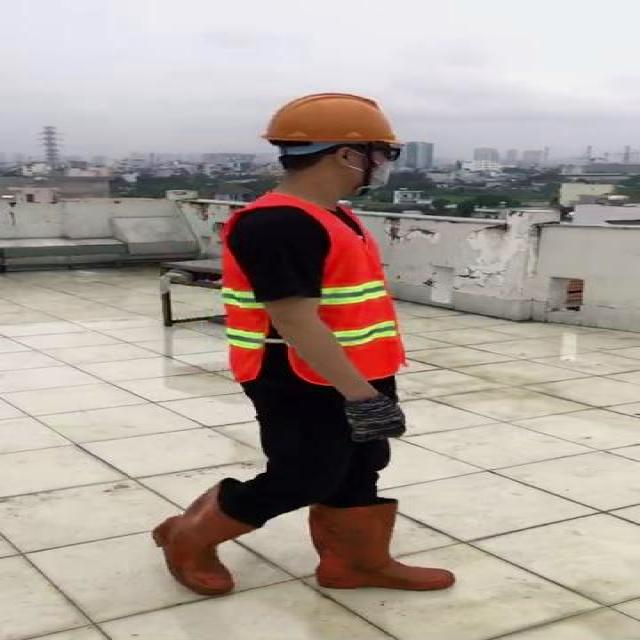boots: (306, 501, 457, 593), (155, 479, 256, 595)
hand_glove: (332, 395, 410, 440)
head_helmet: (258, 89, 405, 150)
person: (150, 90, 476, 597)
vest: (217, 192, 405, 386)
